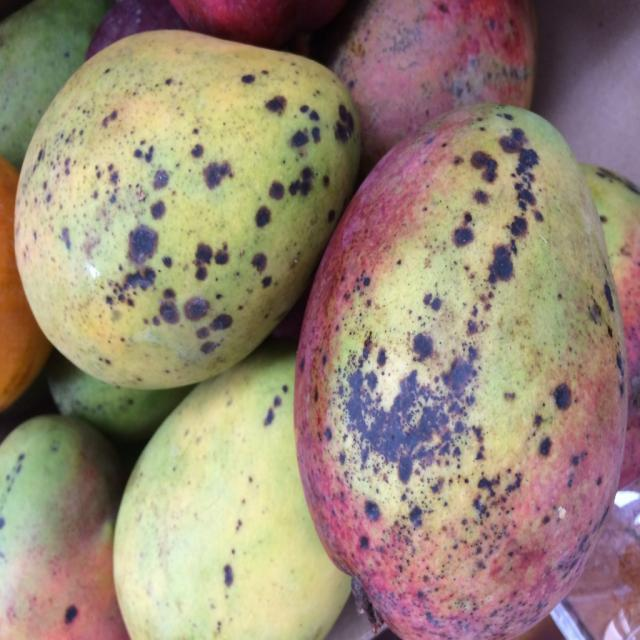Mango: (0, 1, 639, 639), (292, 111, 623, 640)
